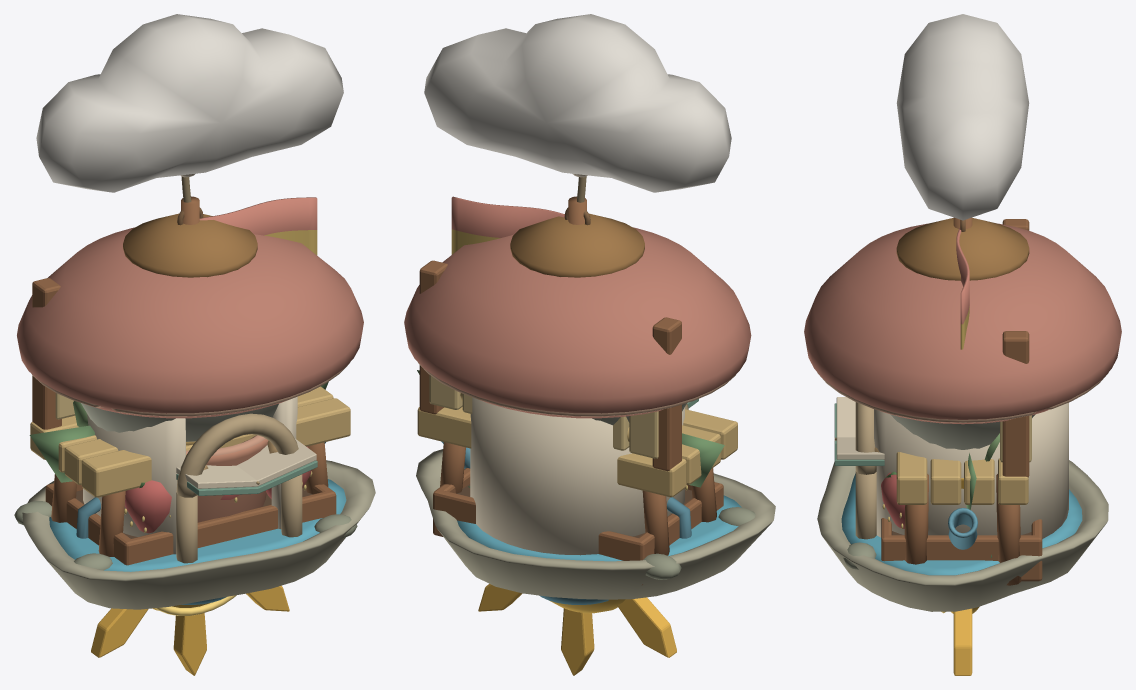
Rendered from props-korean.glb.
3 renders of one model, left to right at view 1: azimuth 30°, elevation 25°; view 2: azimuth 150°, elevation 25°; view 3: azimuth 270°, elevation 25°, orthographic.
Parts seen in each view (by area): view 1: mushroom-home-mesh, cloud-balloon-mesh, tiny-pond-mesh, moon-chair-mesh, strawberry-patch-mesh, firefly-lantern-mesh, sunlight-token-mesh, reading-cat-mesh, rainbow-flag-mesh, dandelion-pot-mesh, bird-bath-mesh, watering-can-mesh; view 2: mushroom-home-mesh, cloud-balloon-mesh, tiny-pond-mesh, moon-chair-mesh, firefly-lantern-mesh, sunlight-token-mesh, strawberry-patch-mesh, rainbow-flag-mesh, watering-can-mesh; view 3: mushroom-home-mesh, cloud-balloon-mesh, tiny-pond-mesh, moon-chair-mesh, firefly-lantern-mesh, strawberry-patch-mesh, bird-bath-mesh, reading-cat-mesh, sunlight-token-mesh, rainbow-flag-mesh, watering-can-mesh.
Boxes of the visible parts, x1,y1,x2,y2 form: mushroom-home-mesh: (17,227,363,563); cloud-balloon-mesh: (36,14,343,202); tiny-pond-mesh: (14,460,375,609); moon-chair-mesh: (30,278,350,556); strawberry-patch-mesh: (29,382,336,565); firefly-lantern-mesh: (123,207,257,277); sunlight-token-mesh: (91,585,289,675); reading-cat-mesh: (176,438,317,495); rainbow-flag-mesh: (181,196,317,255); dandelion-pot-mesh: (186,435,268,522); bird-bath-mesh: (81,403,278,441); watering-can-mesh: (76,442,325,604); mushroom-home-mesh: (404,227,751,555); cloud-balloon-mesh: (424,14,731,202); tiny-pond-mesh: (416,449,775,599); moon-chair-mesh: (417,260,737,555); firefly-lantern-mesh: (510,207,644,277); sunlight-token-mesh: (478,584,676,675); strawberry-patch-mesh: (417,370,724,584); rainbow-flag-mesh: (451,196,586,254); watering-can-mesh: (441,441,691,604); mushroom-home-mesh: (804,223,1121,539); cloud-balloon-mesh: (896,14,1029,220); tiny-pond-mesh: (817,460,1108,611); moon-chair-mesh: (896,219,1031,585); firefly-lantern-mesh: (896,218,1029,280); strawberry-patch-mesh: (881,433,1042,581); bird-bath-mesh: (890,414,1035,449); reading-cat-mesh: (834,397,884,465); sunlight-token-mesh: (941,478,979,675); rainbow-flag-mesh: (953,217,972,349); watering-can-mesh: (948,508,977,549).
Size of the model in its own units: 1.4 by 2.68 by 1.2.
